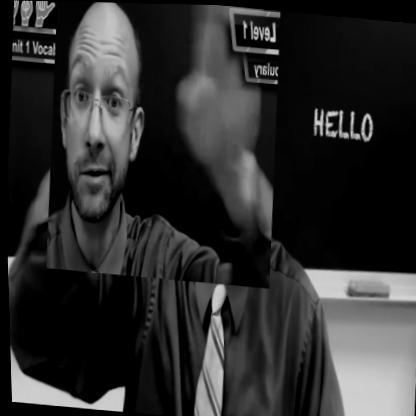Hello: (38, 1, 287, 288)
